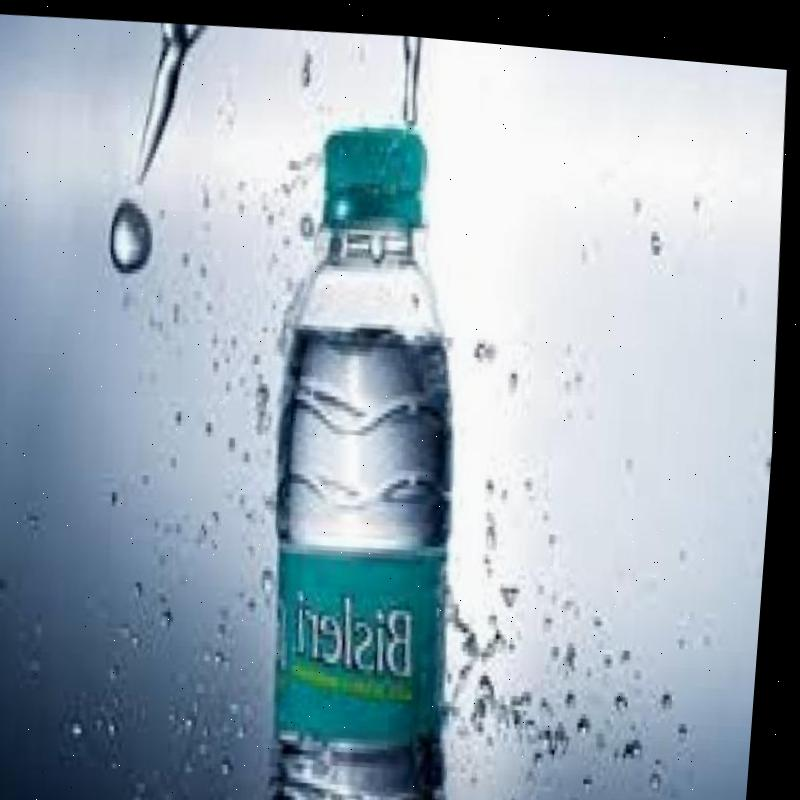botella: (255, 105, 497, 800)
